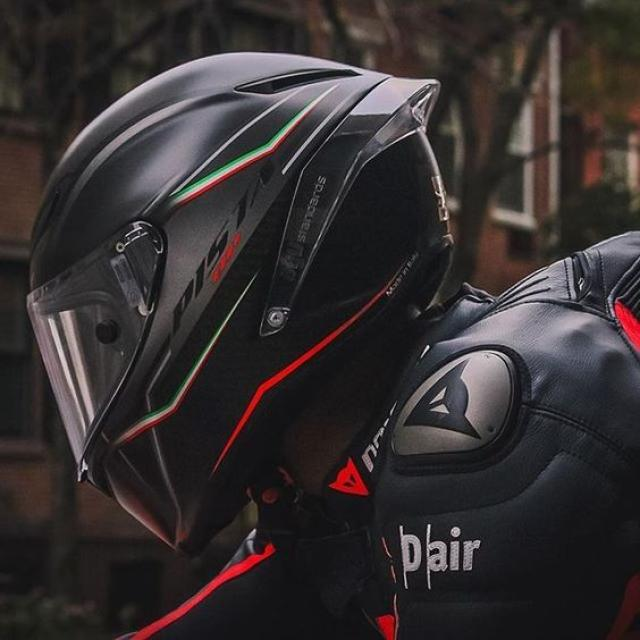Helm: (16, 49, 465, 561)
